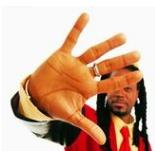down: (38, 11, 146, 147)
